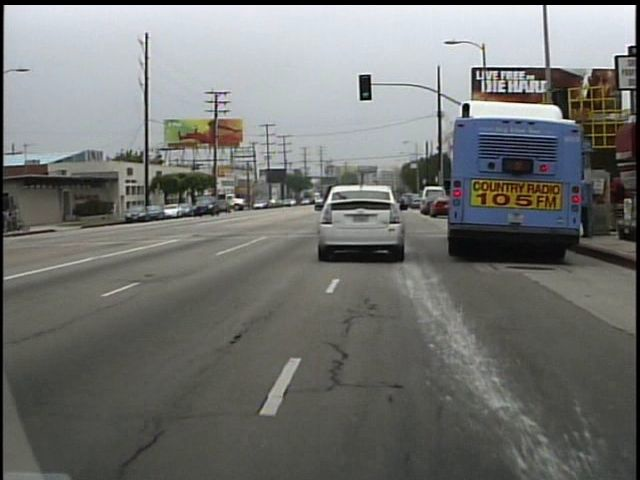person: (108, 195, 121, 220)
